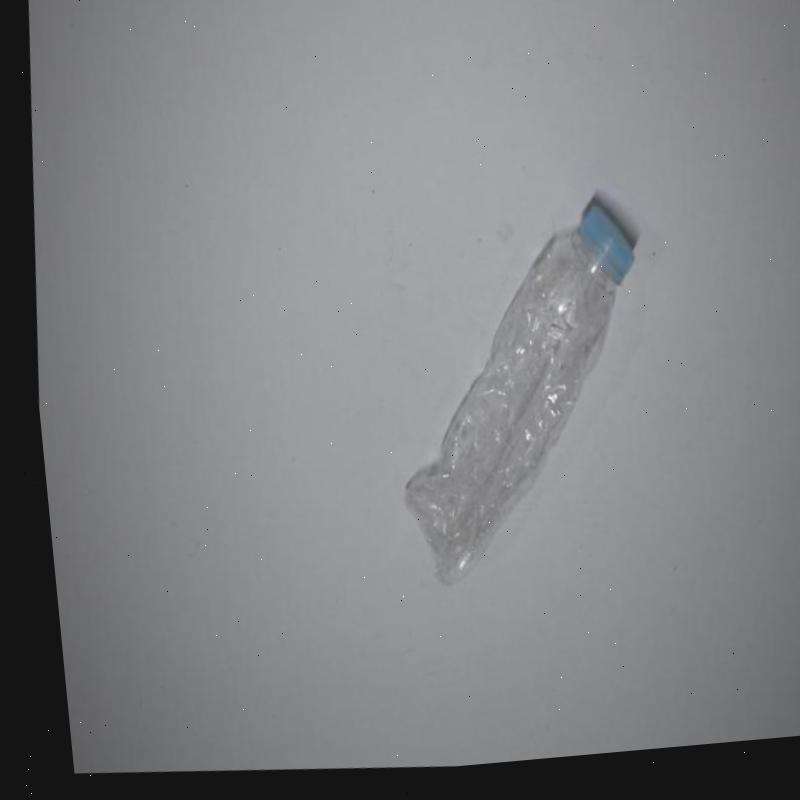botella: (362, 187, 658, 613)
